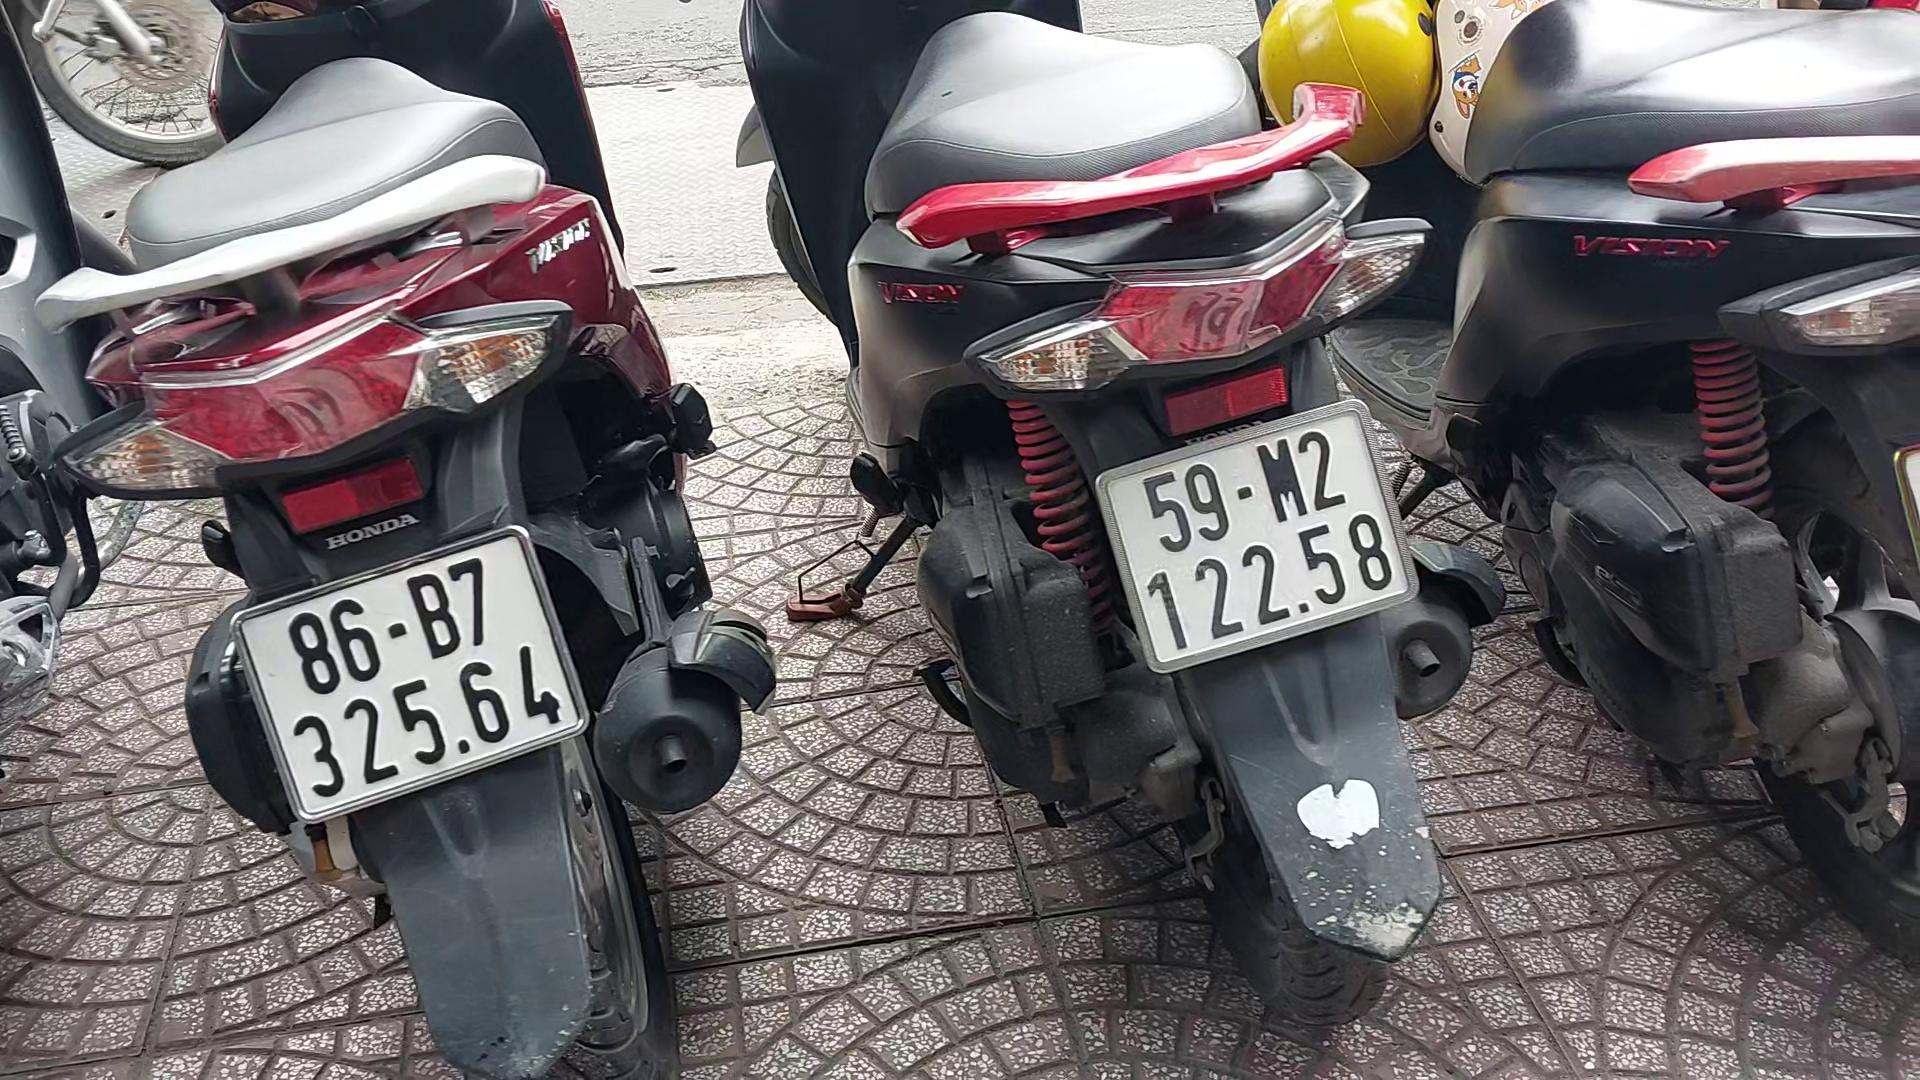numplate: (200, 513, 587, 840), (1103, 407, 1410, 690)
